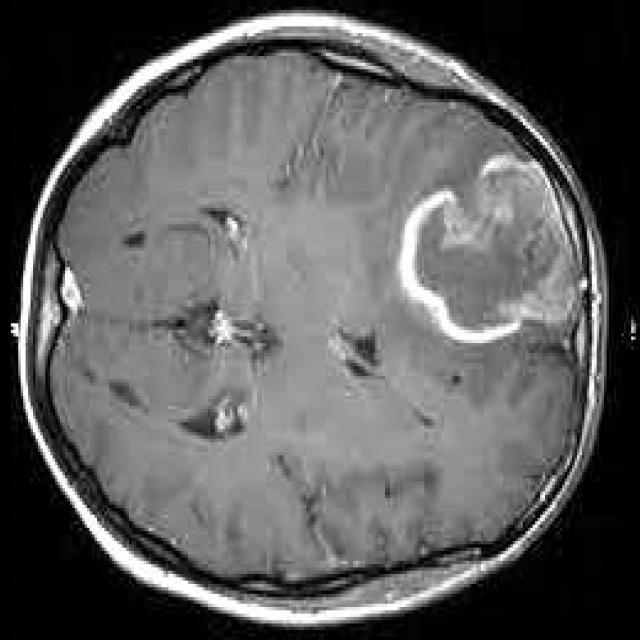tumor: (396, 162, 574, 346)
